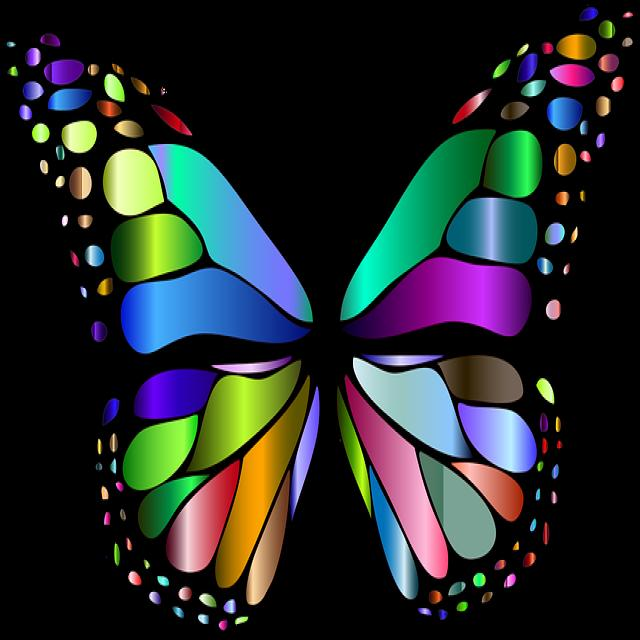butterfly: (20, 7, 639, 630)
